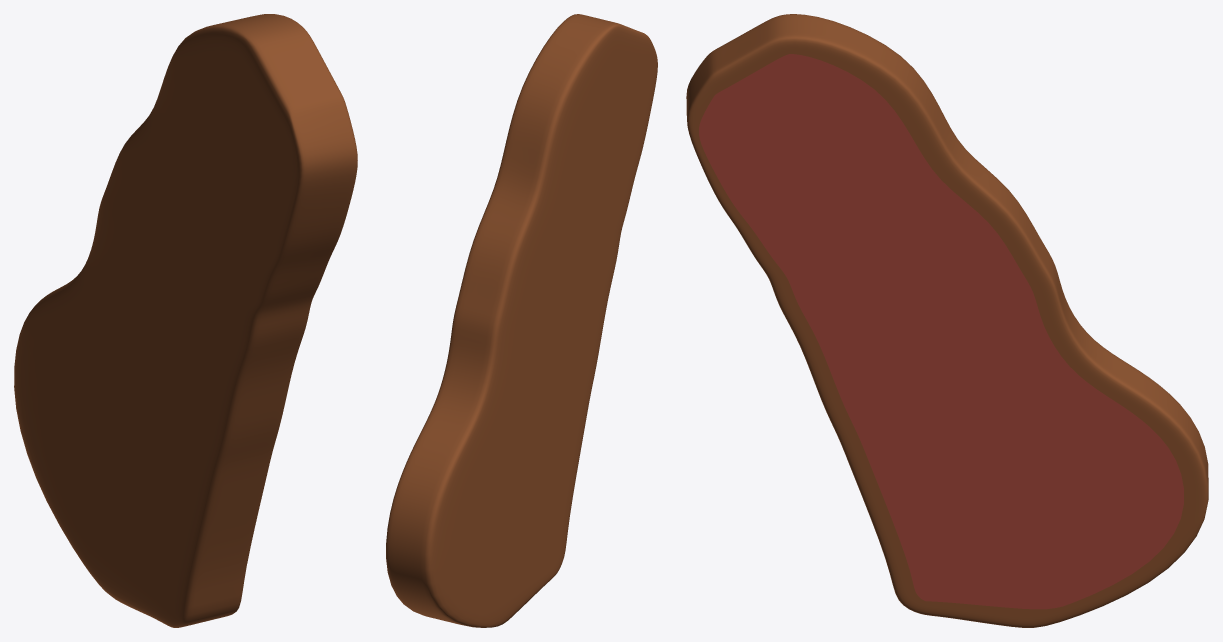
Rendered from beacon.fbx.
The picture shows the model from 3 angles, left to right: view 1: azimuth 30°, elevation 25°; view 2: azimuth 150°, elevation 25°; view 3: azimuth 270°, elevation 25°; orthographic projection. The views are drawn at different scales.
Visible parts, largest first — view 1: Cube.005; view 2: Cube.005; view 3: Cube.005.
Boxes of the visible parts, bbox=[...] form: Cube.005: bbox=[14, 14, 357, 627]; Cube.005: bbox=[386, 14, 657, 627]; Cube.005: bbox=[686, 14, 1208, 627].
Size of the model in its own units: 13.92 by 150 by 120.
